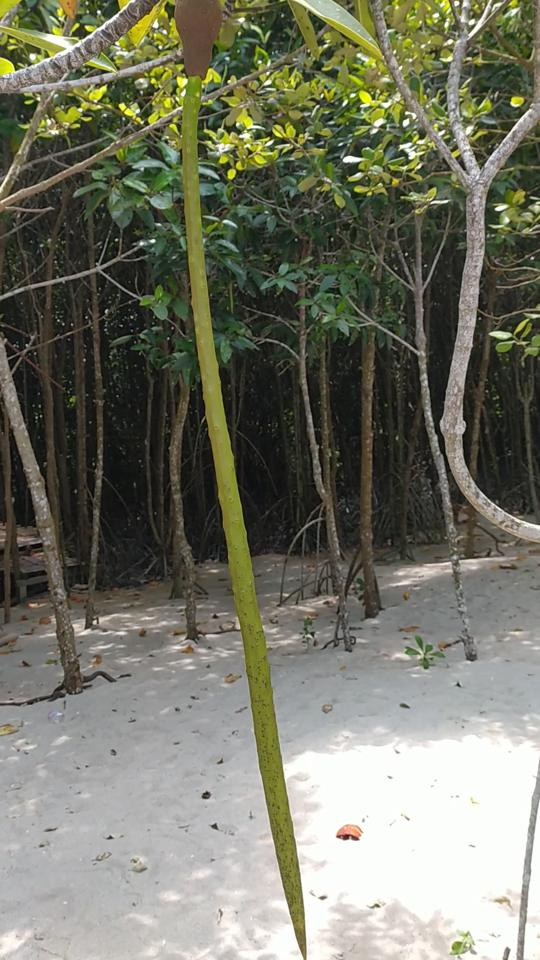mentah: (149, 1, 326, 959)
